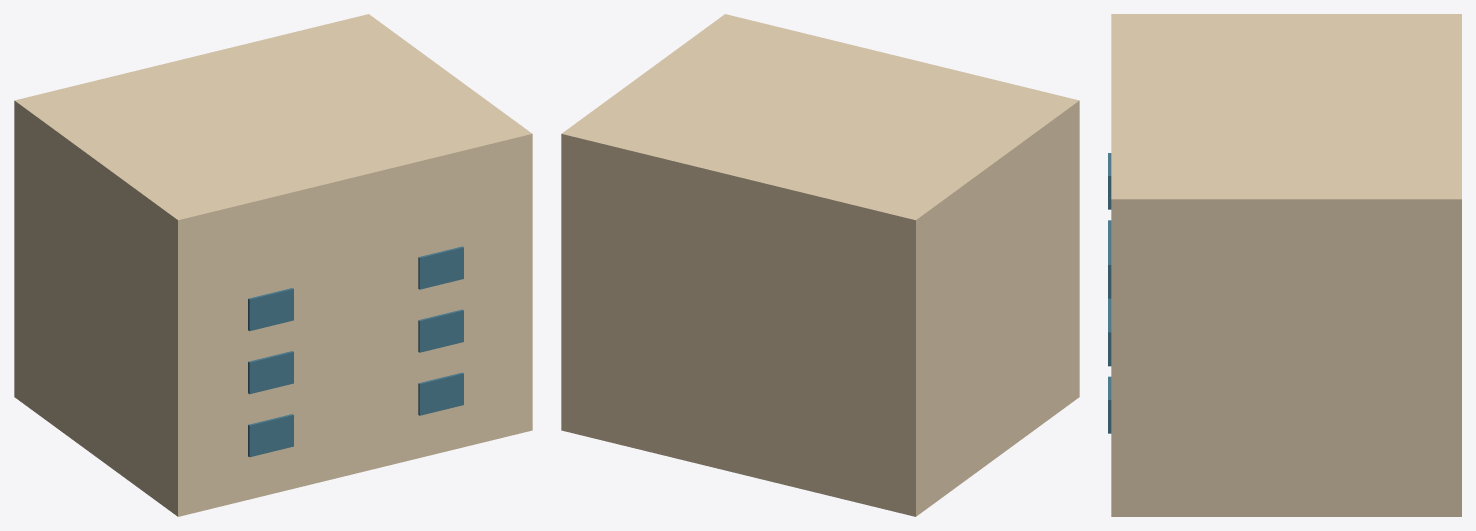
Rendered from bh_cr_building_block_01_lod0.glb.
The picture shows the model from 3 angles, left to right: view 1: azimuth 30°, elevation 25°; view 2: azimuth 150°, elevation 25°; view 3: azimuth 270°, elevation 25°; orthographic projection. The views are drawn at different scales.
Parts seen in each view (by area): view 1: bh_cr_building_block_01_body, bh_cr_building_block_01_window_0_-1, bh_cr_building_block_01_window_0_1, bh_cr_building_block_01_window_1_-1, bh_cr_building_block_01_window_1_1, bh_cr_building_block_01_window_2_-1, bh_cr_building_block_01_window_2_1; view 2: bh_cr_building_block_01_body; view 3: bh_cr_building_block_01_body.
Part boxes in pixels (left/top/right/bottom): bh_cr_building_block_01_body: left=14, top=14, right=532, bottom=516; bh_cr_building_block_01_window_0_-1: left=248, top=414, right=293, bottom=457; bh_cr_building_block_01_window_0_1: left=418, top=372, right=463, bottom=415; bh_cr_building_block_01_window_1_-1: left=248, top=351, right=293, bottom=394; bh_cr_building_block_01_window_1_1: left=418, top=309, right=463, bottom=352; bh_cr_building_block_01_window_2_-1: left=248, top=288, right=293, bottom=331; bh_cr_building_block_01_window_2_1: left=418, top=246, right=463, bottom=289; bh_cr_building_block_01_body: left=561, top=14, right=1079, bottom=516; bh_cr_building_block_01_body: left=1111, top=14, right=1461, bottom=516.
Bounding box in the file's own units: 10 × 8 × 8.07.
